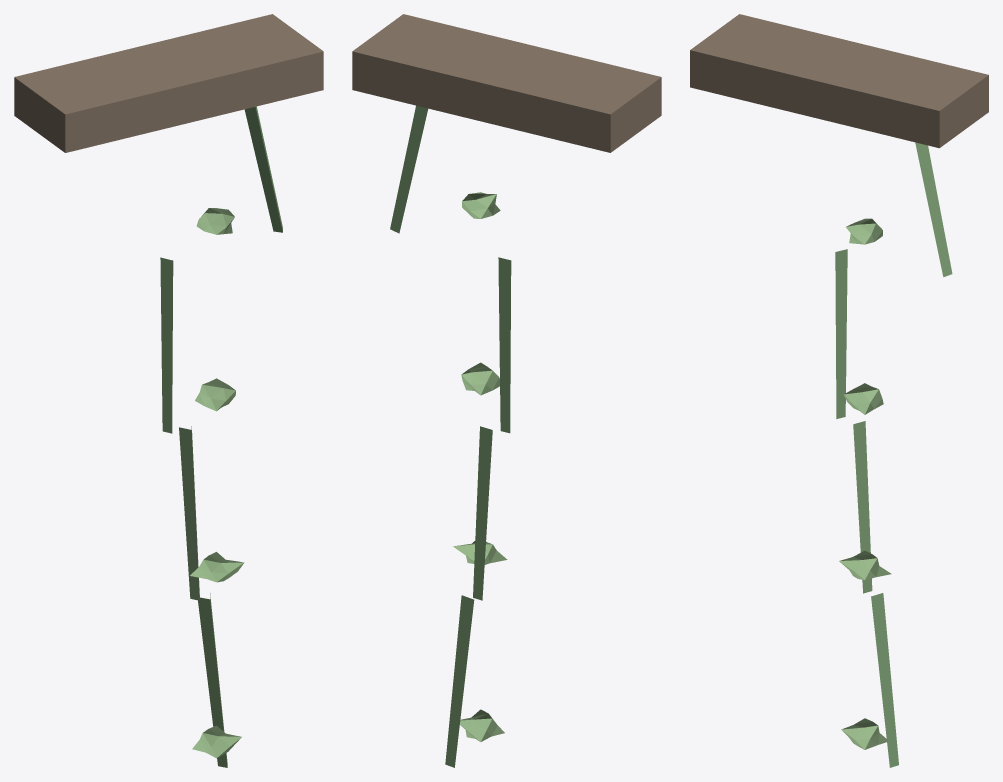
The model's file is vine_v04.glb.
3 views of the same model, side by side, from view 1: azimuth 30°, elevation 25°; view 2: azimuth 150°, elevation 25°; view 3: azimuth 330°, elevation 25° (orthographic). The views are drawn at different scales.
Visible parts, largest first — view 1: lod0; view 2: lod0; view 3: lod0.
Boxes of the visible parts, box(x1,y1,x2,y2) form: lod0: box(14, 14, 323, 767); lod0: box(352, 14, 661, 767); lod0: box(690, 14, 988, 767).
Size of what is drawn, in the model's own units: 0.7 by 1.85 by 0.2461.
